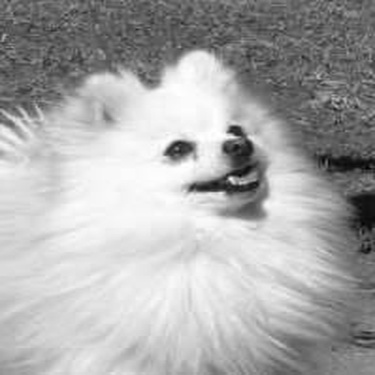dog: (1, 50, 368, 373)
